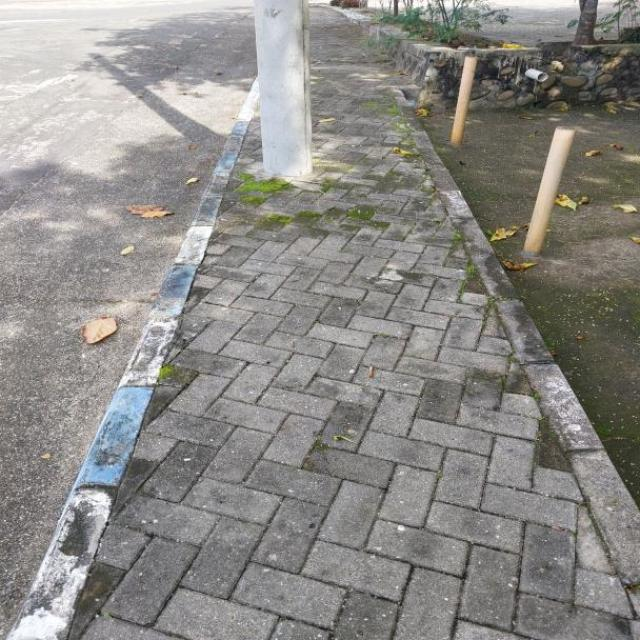barrier ahead at: (518, 118, 579, 270)
